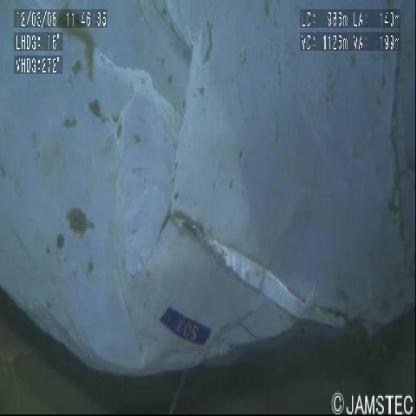Rác: (1, 3, 415, 385)
